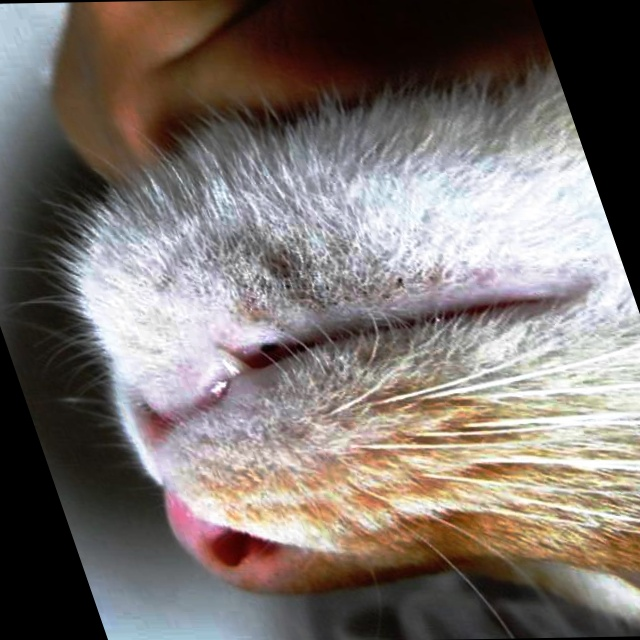acne: (203, 237, 422, 310)
